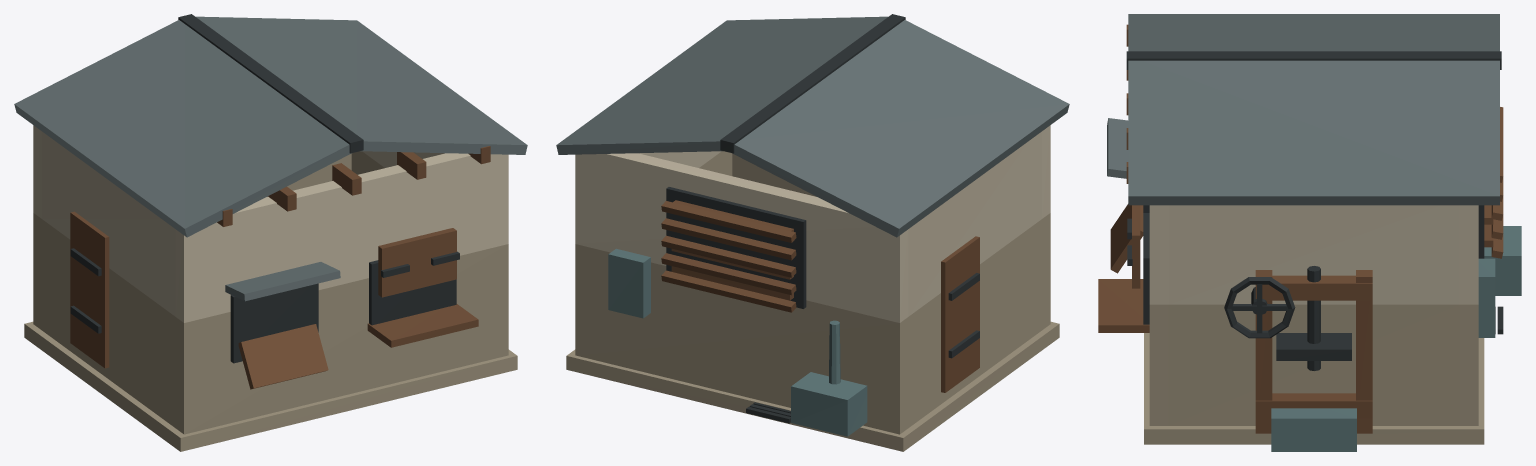
File: cheese-house.source.glb
3 views of the same model, side by side, from view 1: azimuth 30°, elevation 25°; view 2: azimuth 150°, elevation 25°; view 3: azimuth 270°, elevation 25° (orthographic). The views are drawn at different scales.
Parts seen in each view (by area): view 1: cheese-house-left-roof-panel-mesh, cheese-house-front-upper-plaster-wall-mesh, cheese-house-front-lower-stone-wall-mesh, cheese-house-right-roof-panel-mesh, cheese-house-left-lower-stone-wall-mesh, cheese-house-left-upper-plaster-wall-mesh, cheese-house-foundation-slab-mesh, cheese-house-timber-service-door-mesh, cheese-house-receiving-timber-shutter-mesh, cheese-house-receiving-dark-recess-mesh, cheese-house-product-output-timber-shutter-mesh, cheese-house-roof-ridge-cap-mesh (+9 smaller); view 2: cheese-house-left-roof-panel-mesh, cheese-house-rear-lower-stone-wall-mesh, cheese-house-rear-upper-plaster-wall-mesh, cheese-house-right-roof-panel-mesh, cheese-house-left-lower-stone-wall-mesh, cheese-house-left-upper-plaster-wall-mesh, cheese-house-foundation-slab-mesh, cheese-house-aging-room-dark-opening-mesh, cheese-house-timber-service-door-mesh, cheese-house-brine-wash-basin-mesh, cheese-house-roof-ridge-cap-mesh, cheese-house-power-service-box-mesh (+11 smaller); view 3: cheese-house-right-roof-panel-mesh, cheese-house-right-lower-stone-wall-mesh, cheese-house-right-upper-plaster-wall-mesh, cheese-house-left-roof-panel-mesh, cheese-house-foundation-slab-mesh, cheese-house-roof-ridge-cap-mesh, cheese-house-empty-curd-work-vat-mesh, cheese-house-product-output-tray-mesh, cheese-house-front-lower-stone-wall-mesh, cheese-house-rear-lower-stone-wall-mesh, cheese-house-press-crossbeam-1.72-mesh, cheese-house-press-post--0.48-mesh (+13 smaller).
Part boxes in pixels (x1,y1,x2,y2): cheese-house-left-roof-panel-mesh: [14, 20, 351, 237]; cheese-house-front-upper-plaster-wall-mesh: [175, 153, 508, 322]; cheese-house-front-lower-stone-wall-mesh: [175, 244, 508, 434]; cheese-house-right-roof-panel-mesh: [196, 16, 527, 154]; cheese-house-left-lower-stone-wall-mesh: [42, 219, 175, 427]; cheese-house-left-upper-plaster-wall-mesh: [42, 131, 175, 316]; cheese-house-foundation-slab-mesh: [24, 321, 517, 451]; cheese-house-timber-service-door-mesh: [70, 211, 109, 368]; cheese-house-receiving-timber-shutter-mesh: [238, 324, 328, 389]; cheese-house-receiving-dark-recess-mesh: [230, 283, 318, 363]; cheese-house-product-output-timber-shutter-mesh: [378, 228, 456, 297]; cheese-house-roof-ridge-cap-mesh: [178, 14, 363, 153]; cheese-house-left-roof-panel-mesh: [732, 20, 1069, 237]; cheese-house-rear-lower-stone-wall-mesh: [575, 244, 908, 434]; cheese-house-rear-upper-plaster-wall-mesh: [575, 153, 908, 322]; cheese-house-right-roof-panel-mesh: [556, 16, 887, 154]; cheese-house-left-lower-stone-wall-mesh: [908, 219, 1041, 427]; cheese-house-left-upper-plaster-wall-mesh: [908, 131, 1041, 316]; cheese-house-foundation-slab-mesh: [566, 321, 1059, 451]; cheese-house-aging-room-dark-opening-mesh: [666, 187, 806, 308]; cheese-house-timber-service-door-mesh: [941, 236, 979, 392]; cheese-house-brine-wash-basin-mesh: [791, 372, 867, 436]; cheese-house-roof-ridge-cap-mesh: [720, 14, 905, 153]; cheese-house-power-service-box-mesh: [608, 248, 650, 318]; cheese-house-right-roof-panel-mesh: [1128, 60, 1499, 205]; cheese-house-right-lower-stone-wall-mesh: [1168, 304, 1459, 425]; cheese-house-right-upper-plaster-wall-mesh: [1168, 205, 1459, 304]; cheese-house-left-roof-panel-mesh: [1128, 14, 1499, 51]; cheese-house-foundation-slab-mesh: [1144, 333, 1484, 444]; cheese-house-roof-ridge-cap-mesh: [1126, 51, 1501, 69]; cheese-house-empty-curd-work-vat-mesh: [1271, 408, 1356, 451]; cheese-house-product-output-tray-mesh: [1098, 279, 1149, 332]; cheese-house-front-lower-stone-wall-mesh: [1149, 304, 1168, 425]; cheese-house-rear-lower-stone-wall-mesh: [1459, 304, 1478, 425]; cheese-house-press-crossbeam-1.72-mesh: [1255, 275, 1372, 300]; cheese-house-press-post--0.48-mesh: [1356, 270, 1372, 433].
Bounding box in the file's own units: 4.57 × 3.16 × 4.04.
